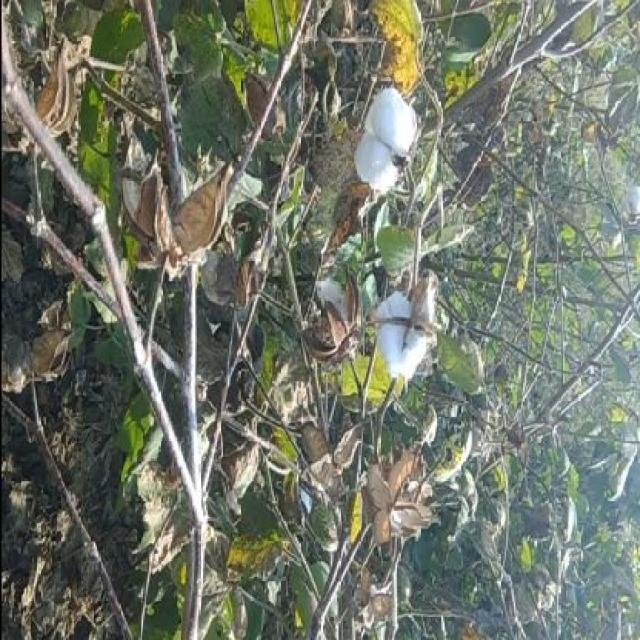cotton_ready: (342, 264, 446, 427), (337, 56, 432, 198)
